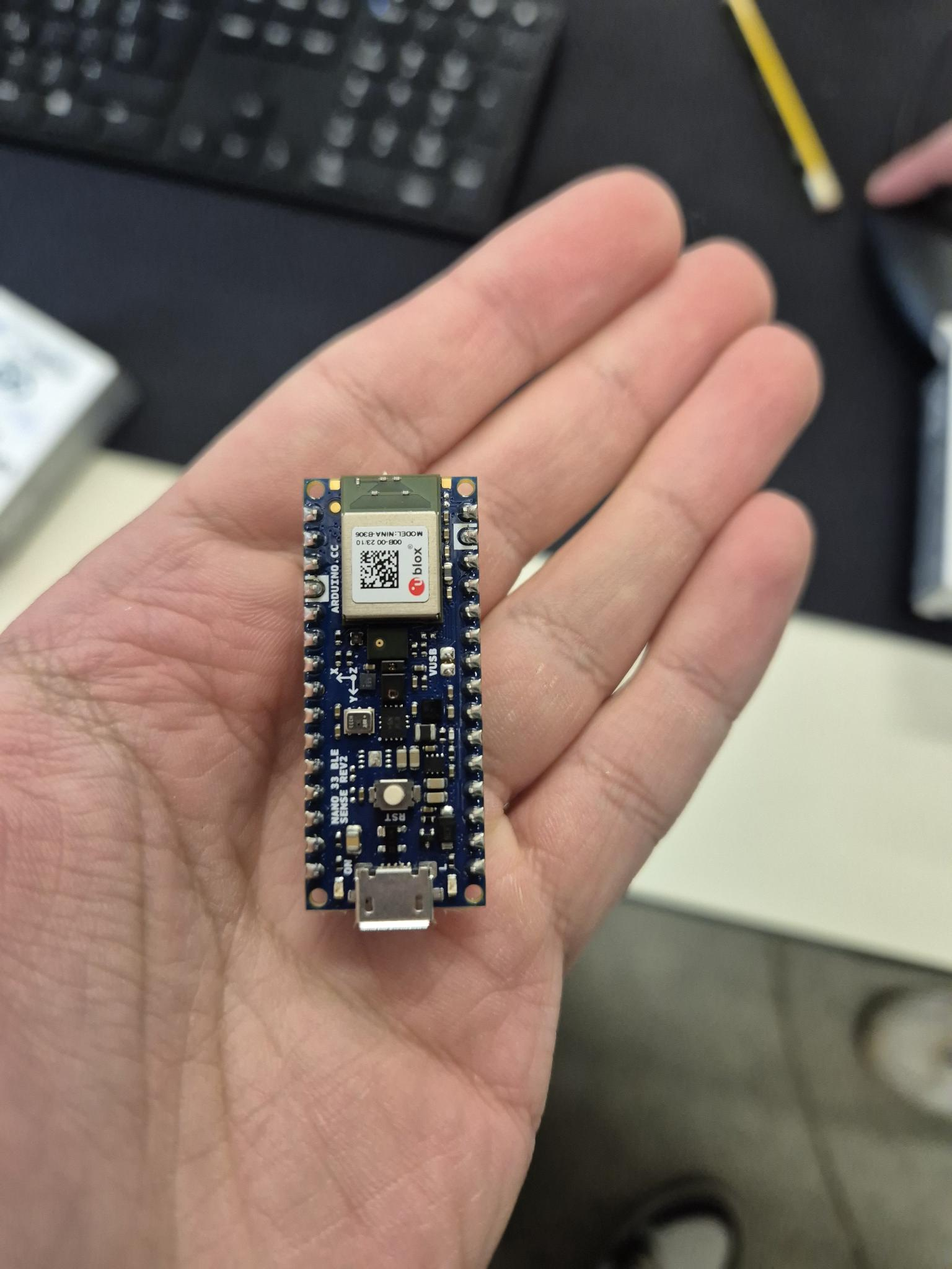arduino-nano-ble-sense: (304, 474, 486, 930)
